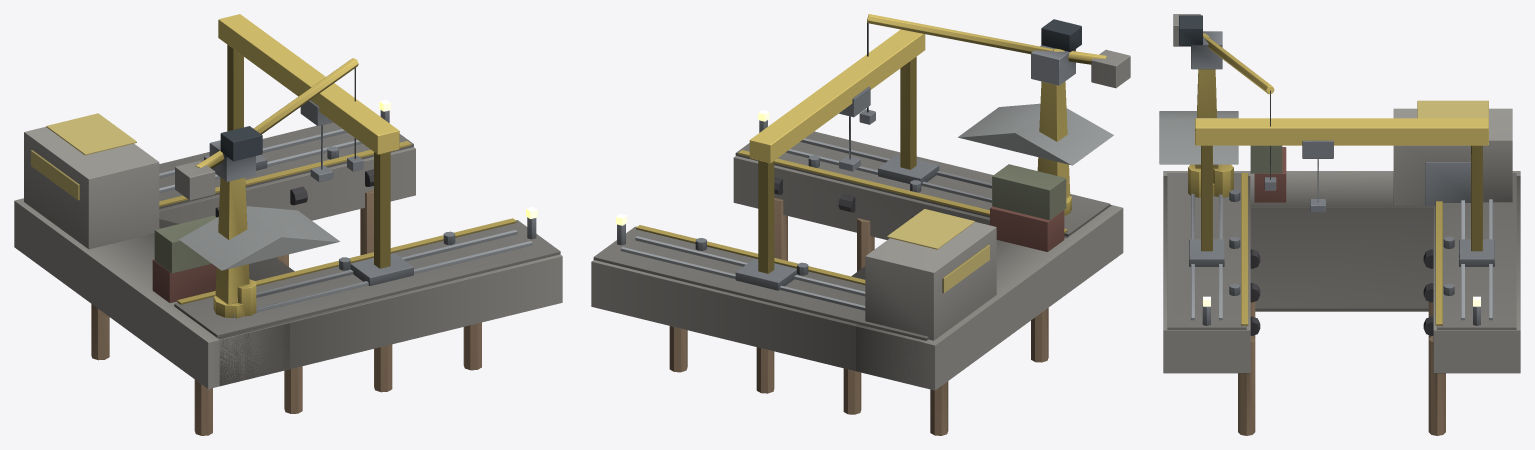
File: naval_yard.glb
3 renders of one model, left to right at view 1: azimuth 30°, elevation 25°; view 2: azimuth 150°, elevation 25°; view 3: azimuth 270°, elevation 25°, orthographic. The views are drawn at different scales.
Parts seen in each view (by area): view 1: Body, Gantry, Crane; view 2: Body, Gantry, Crane; view 3: Body, Gantry, Crane.
Part boxes in pixels (<box>): Body: <box>14,99,562,435</box>; Gantry: <box>204,14,413,285</box>; Crane: <box>175,58,363,200</box>; Body: <box>591,81,1123,435</box>; Gantry: <box>735,29,939,290</box>; Crane: <box>859,14,1130,124</box>; Body: <box>1159,69,1520,435</box>; Gantry: <box>1189,118,1494,266</box>; Crane: <box>1173,14,1276,190</box>.
Size of the model in its own units: 9.85 by 8.3 by 9.1.
